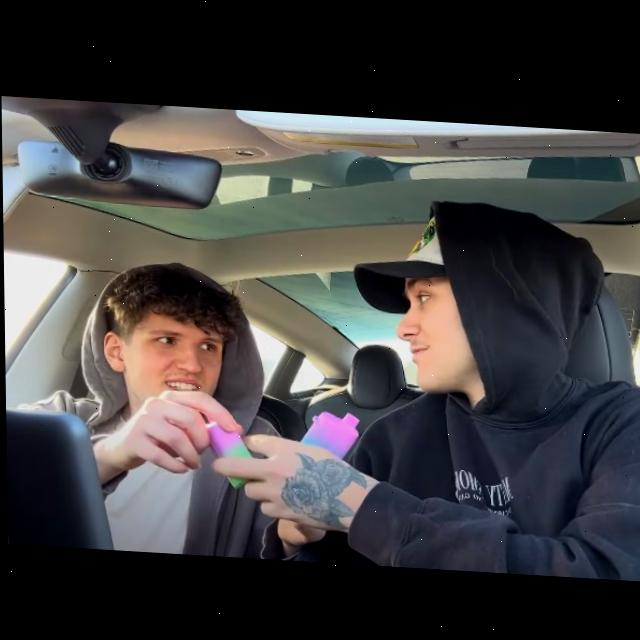vape: (204, 414, 250, 488), (299, 406, 359, 456)
